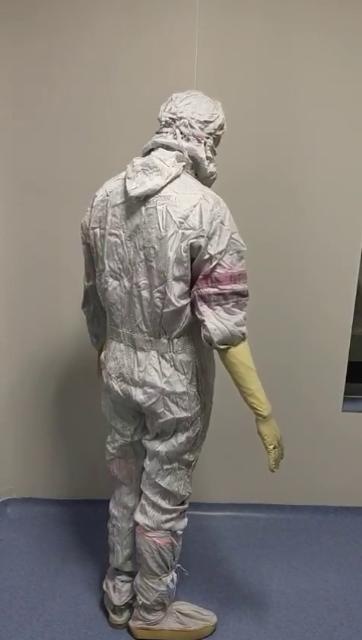boot_not_secured: (66, 520, 150, 638)
boot_secured: (130, 498, 208, 640)
gloves_fitted_securely: (210, 325, 304, 461)
headgear_not_secured_backside: (108, 80, 228, 208)
